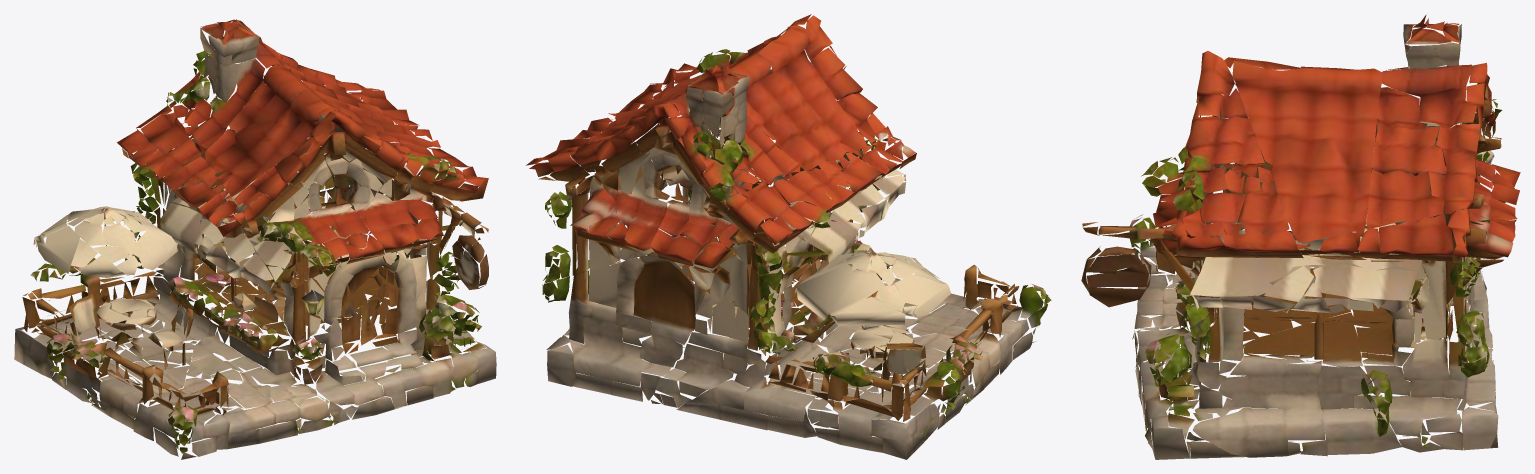
File: cafe-mobile-v2.glb
The picture shows the model from 3 angles, left to right: view 1: azimuth 30°, elevation 25°; view 2: azimuth 150°, elevation 25°; view 3: azimuth 270°, elevation 25°; orthographic projection. The views are drawn at different scales.
Visible parts, largest first — view 1: tripo_node_d00f5204-c54b-4dd5-97aa-67ed4b3064ab; view 2: tripo_node_d00f5204-c54b-4dd5-97aa-67ed4b3064ab; view 3: tripo_node_d00f5204-c54b-4dd5-97aa-67ed4b3064ab.
Part boxes in pixels (box(x1,y1,x2,y2)): tripo_node_d00f5204-c54b-4dd5-97aa-67ed4b3064ab: box(14, 19, 496, 459); tripo_node_d00f5204-c54b-4dd5-97aa-67ed4b3064ab: box(526, 14, 1051, 459); tripo_node_d00f5204-c54b-4dd5-97aa-67ed4b3064ab: box(1081, 14, 1520, 459).
Size of the model in its own units: 5.59 by 4.43 by 4.89.
Materials: 1 (1 with a texture image).
